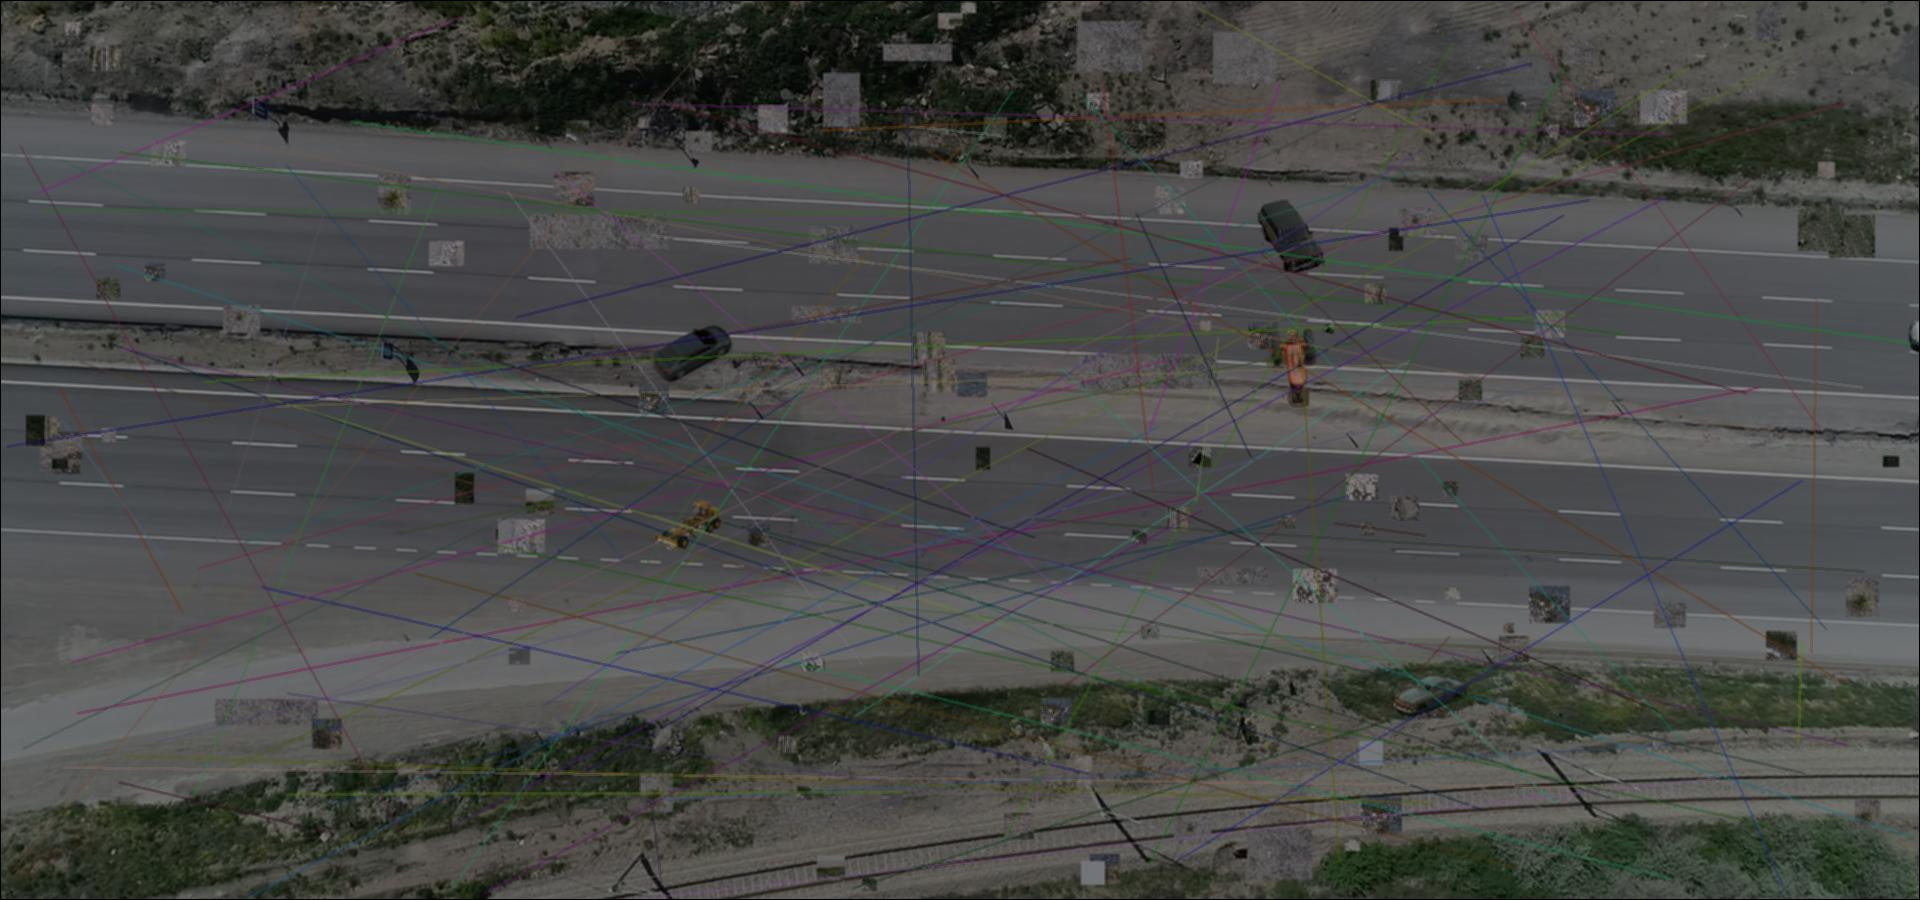arac: (1255, 200, 1326, 272), (651, 323, 733, 382), (654, 498, 727, 552), (1266, 328, 1316, 407), (1393, 672, 1468, 718)
